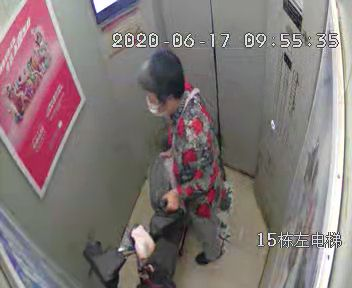Electric-bicycle: (91, 133, 180, 288)
